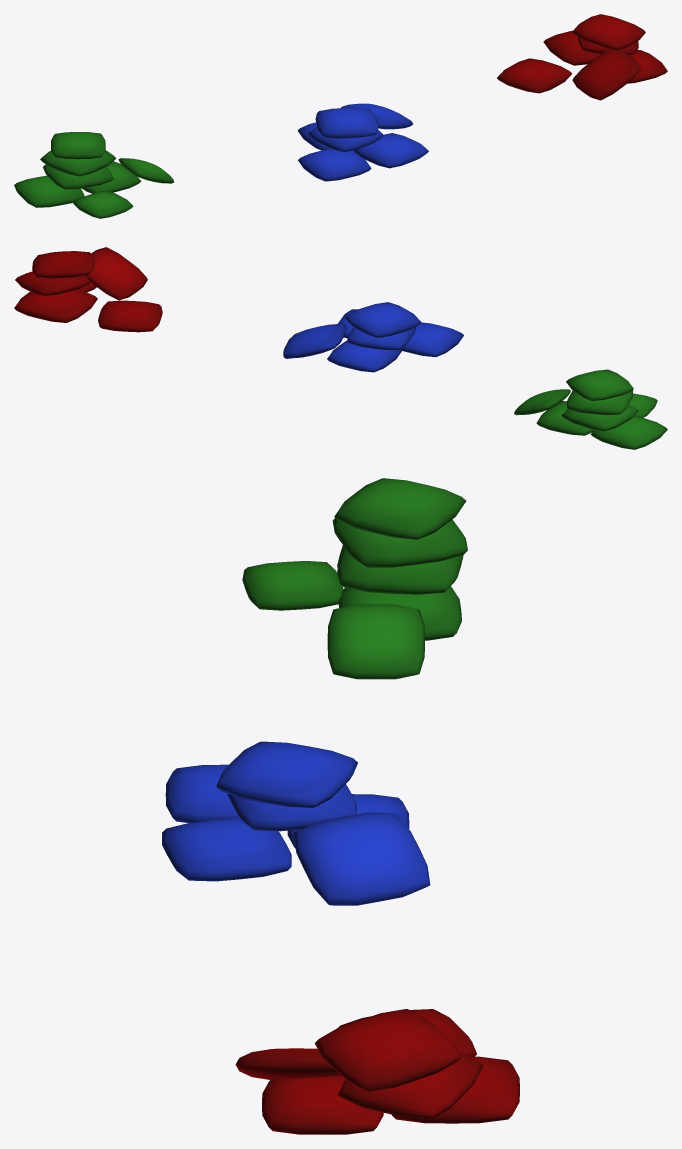
Rendered from Asset_Pillo_piles.fbx.
3 views of the same model, one above another, from view 1: azimuth 30°, elevation 25°; view 2: azimuth 150°, elevation 25°; view 3: azimuth 270°, elevation 25° (orthographic). The views are drawn at different scales.
Visible parts, largest first — view 1: Red_Pillo_Pile, Green_Pillo_Pile, Blue_Pillo_Pile; view 2: Red_Pillo_Pile, Blue_Pillo_Pile, Green_Pillo_Pile; view 3: Blue_Pillo_Pile, Green_Pillo_Pile, Red_Pillo_Pile.
Part boxes in pixels (x1,y1,x2,y2): Red_Pillo_Pile: (497,14,667,100); Green_Pillo_Pile: (14,132,174,218); Blue_Pillo_Pile: (297,103,428,181); Red_Pillo_Pile: (14,247,162,332); Blue_Pillo_Pile: (283,302,463,372); Green_Pillo_Pile: (514,369,667,449); Blue_Pillo_Pile: (162,741,430,905); Green_Pillo_Pile: (242,478,467,679); Red_Pillo_Pile: (235,1009,519,1134).
Bounding box in the file's own units: 4.85 × 0.4278 × 1.21.
